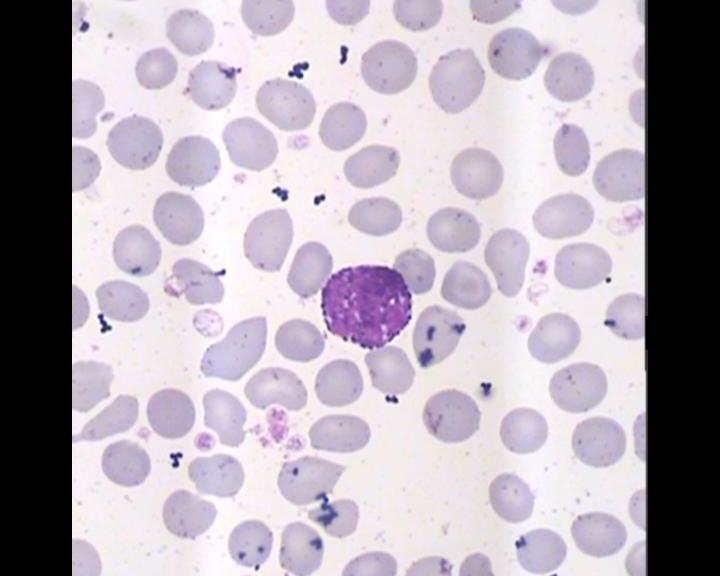baso: (313, 258, 416, 350)
